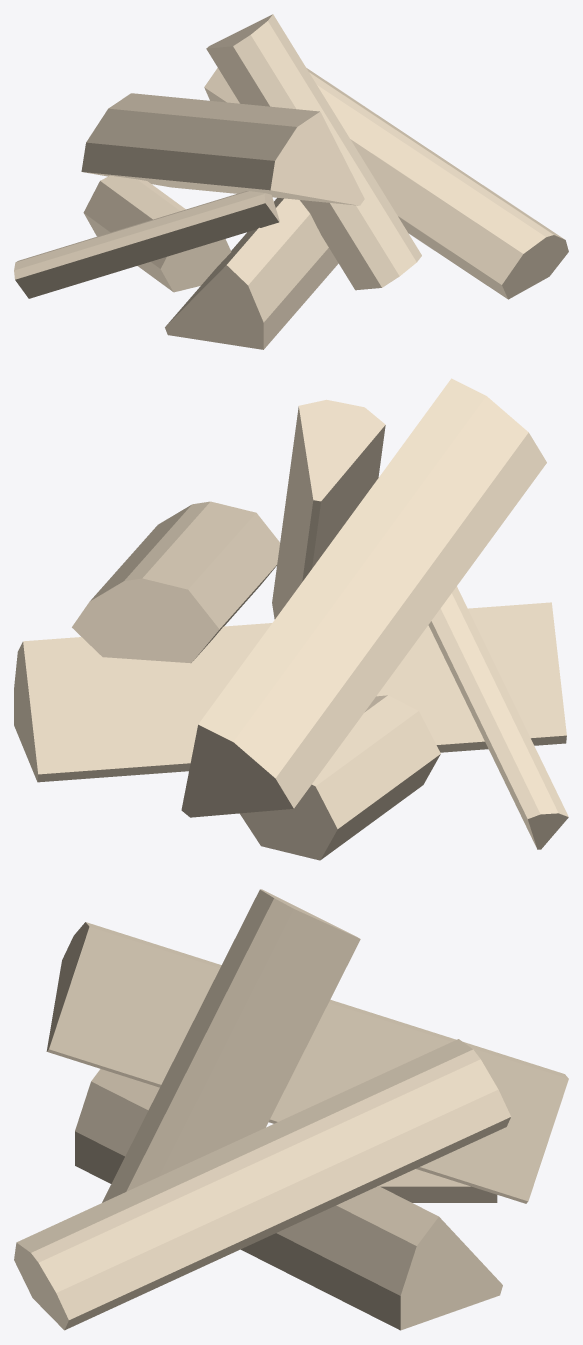
The model's file is 薪組たて済み.fbx.
3 views of the same model, one above another, from view 1: azimuth 30°, elevation 25°; view 2: azimuth 150°, elevation 25°; view 3: azimuth 270°, elevation 25° (orthographic). The views are drawn at different scales.
Parts seen in each view (by area): view 1: Body.010, Body.008, Body.003, Body.001, Body.009, Body.002; view 2: Body.010, Body.001, Body.008, Body.002, Body.003, Body.009; view 3: Body.008, Body.010, Body.003, Body.001, Body.002.
Part boxes in pixels (<box>): Body.010: <box>81,93,364,205</box>; Body.008: <box>204,68,568,299</box>; Body.003: <box>206,14,421,290</box>; Body.001: <box>165,106,364,349</box>; Body.009: <box>14,191,279,298</box>; Body.002: <box>83,175,231,292</box>; Body.010: <box>181,378,546,817</box>; Body.001: <box>14,602,566,782</box>; Body.008: <box>72,501,279,663</box>; Body.002: <box>239,695,440,860</box>; Body.003: <box>272,399,385,619</box>; Body.009: <box>428,586,568,849</box>; Body.008: <box>14,1039,510,1330</box>; Body.010: <box>46,922,568,1203</box>; Body.003: <box>102,889,360,1202</box>; Body.001: <box>75,1069,502,1330</box>; Body.002: <box>379,1169,497,1202</box>.
Bounding box in the file's own units: 22.47 × 12.76 × 19.48.
